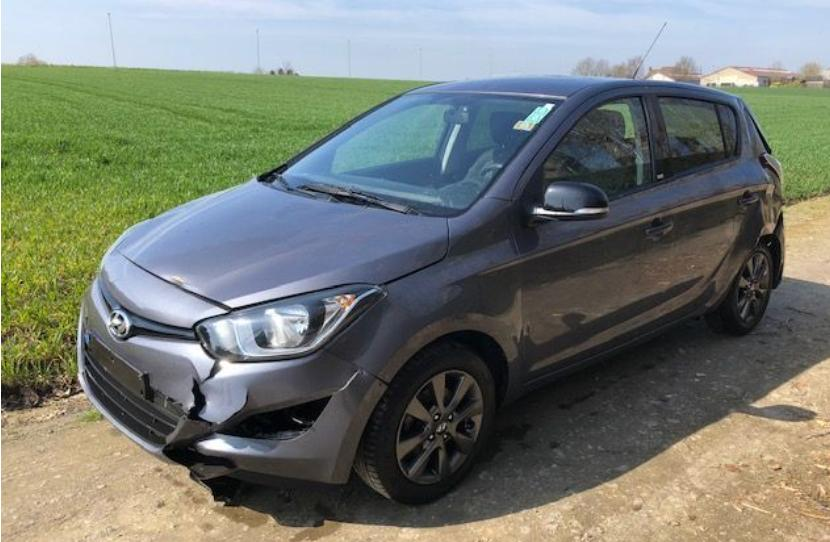Back-bumper: (775, 218, 785, 288)
Back-door: (650, 86, 767, 322)
Back-wheel: (705, 245, 774, 335)
Back-window: (658, 96, 727, 173), (721, 105, 738, 152)
Fender: (323, 198, 525, 390)
Front-bumper: (76, 246, 389, 487)
Front-door: (511, 86, 677, 382)
Front-wheel: (353, 344, 496, 505)
Front-window: (537, 97, 652, 204)
Grille: (81, 320, 183, 444)
Headlight: (194, 284, 387, 361)
Hood: (110, 176, 448, 312)
Mirror: (525, 180, 608, 230)
Quarter-panel: (758, 156, 785, 235)
Rocker-panel: (503, 300, 724, 408)
Roof: (406, 76, 633, 99)
Windshield: (262, 92, 566, 218)
